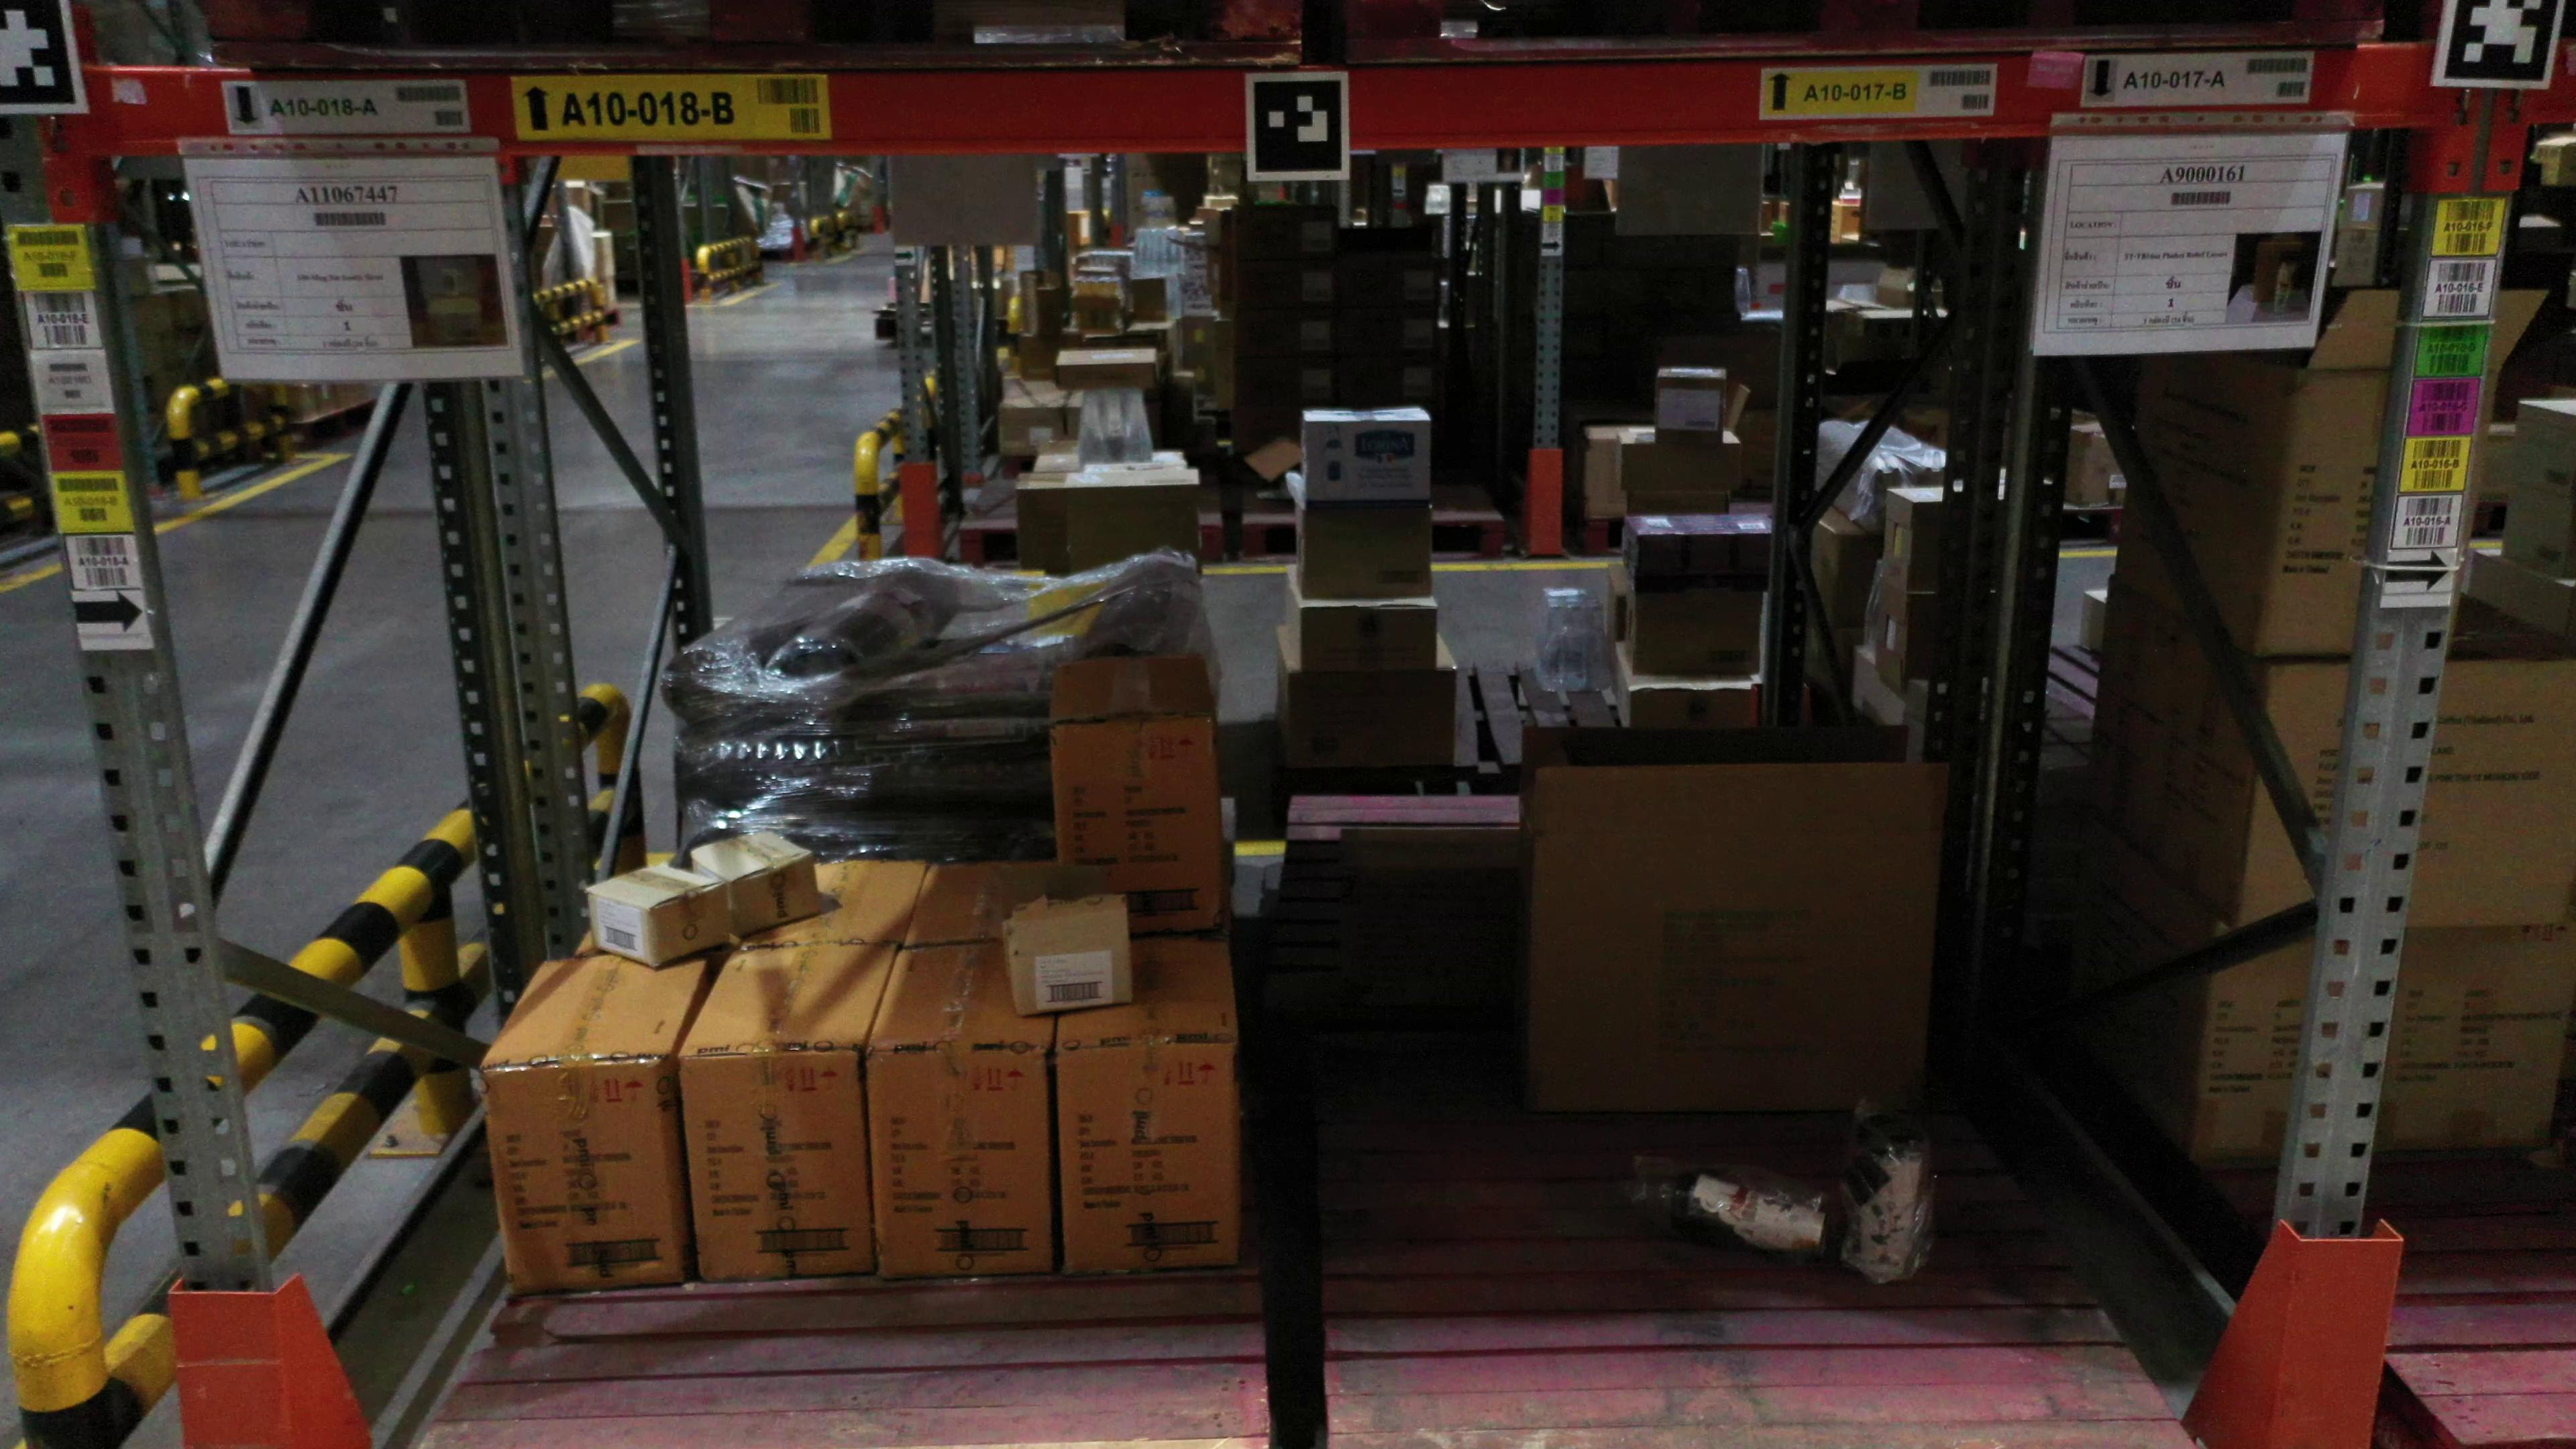-: (1527, 770, 1946, 1116), (2238, 658, 2576, 932), (2196, 925, 2576, 1162), (2265, 364, 2498, 655), (478, 1058, 685, 1297), (679, 1047, 876, 1277), (867, 1042, 1058, 1277), (1056, 1035, 1237, 1270), (1051, 718, 1223, 934), (1003, 915, 1134, 1016), (727, 858, 821, 938), (639, 883, 734, 961)
